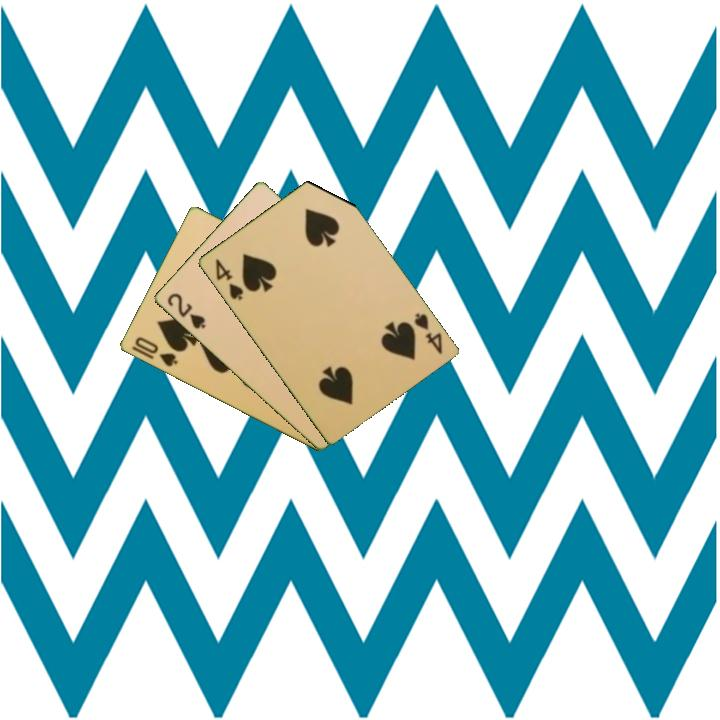10s: (131, 333, 180, 370)
2s: (163, 289, 209, 332)
4s: (211, 255, 246, 303), (410, 309, 445, 357)
